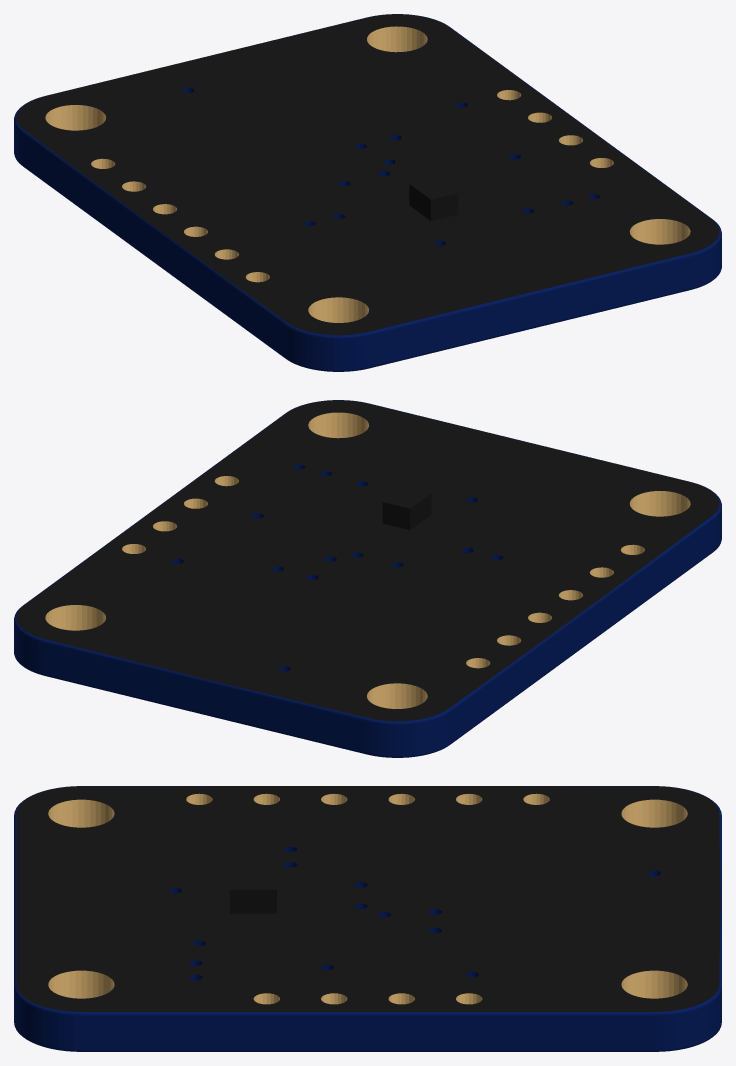
Rendered from imu_front_1.dae.
3 renders of one model, top to bottom at view 1: azimuth 30°, elevation 25°; view 2: azimuth 150°, elevation 25°; view 3: azimuth 270°, elevation 25°, orthographic. The views are drawn at different scales.
Visible parts, largest first — view 1: part_1_node, part_0_node, part_2_node; view 2: part_1_node, part_0_node, part_2_node; view 3: part_1_node, part_0_node, part_2_node.
Boxes of the visible parts, x1,y1,x2,y2 form: part_1_node: [16, 14, 719, 335]; part_0_node: [14, 14, 721, 371]; part_2_node: [45, 26, 690, 322]; part_1_node: [16, 400, 719, 721]; part_0_node: [14, 400, 721, 757]; part_2_node: [45, 412, 690, 708]; part_1_node: [16, 786, 720, 1011]; part_0_node: [14, 786, 721, 1051]; part_2_node: [48, 793, 687, 1004].
Bounding box in the file's own units: 20.32 × 26.67 × 2.62.
